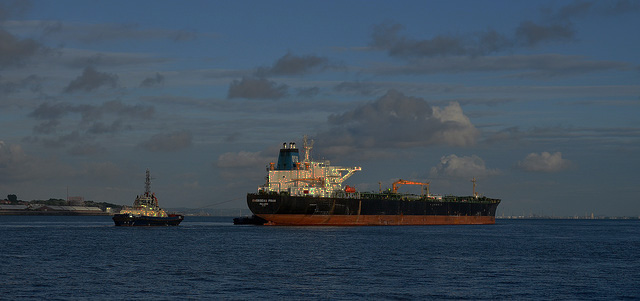tanker: (244, 136, 504, 228)
tug_boat: (113, 170, 183, 225)
